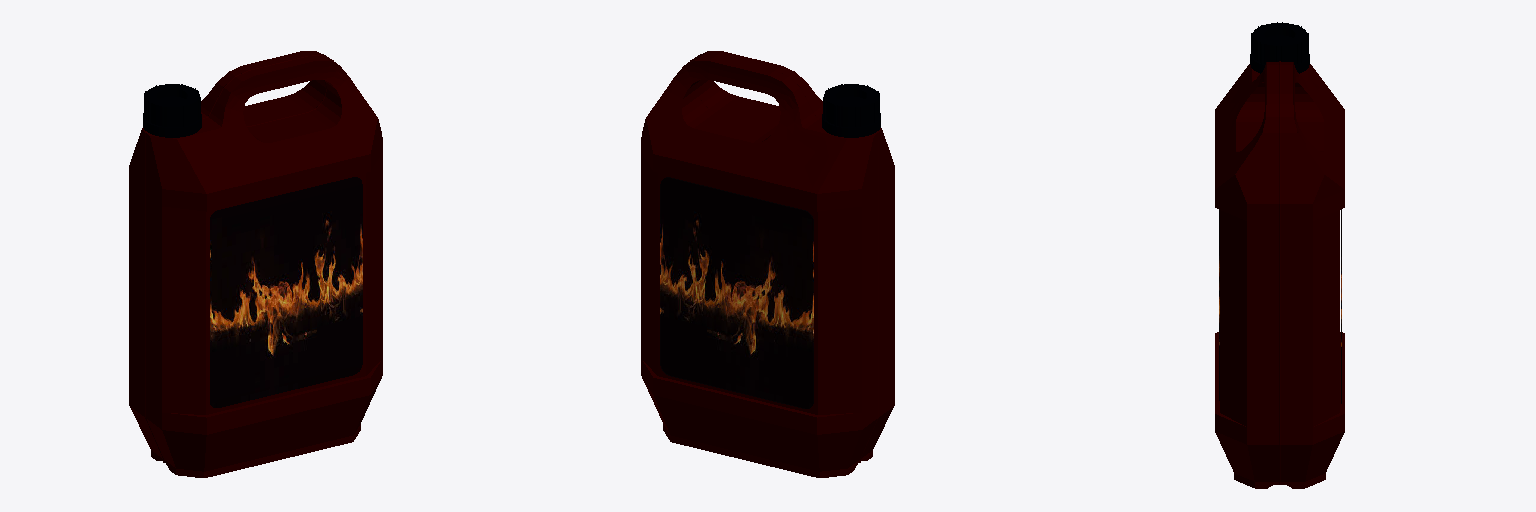
3 renders of one model, left to right at view 1: azimuth 30°, elevation 25°; view 2: azimuth 150°, elevation 25°; view 3: azimuth 270°, elevation 25°, orthographic.
Parts seen in each view (by area): view 1: Label_Circle.002; view 2: Label_Circle.002; view 3: Label_Circle.002.
Boxes of the visible parts, box(x1,y1,x2,y2) form: Label_Circle.002: box(129, 51, 382, 477); Label_Circle.002: box(641, 51, 894, 477); Label_Circle.002: box(1215, 22, 1344, 488).
Size of the model in its own units: 5.4 by 8.75 by 2.76.
Materials: 3 (1 with a texture image).